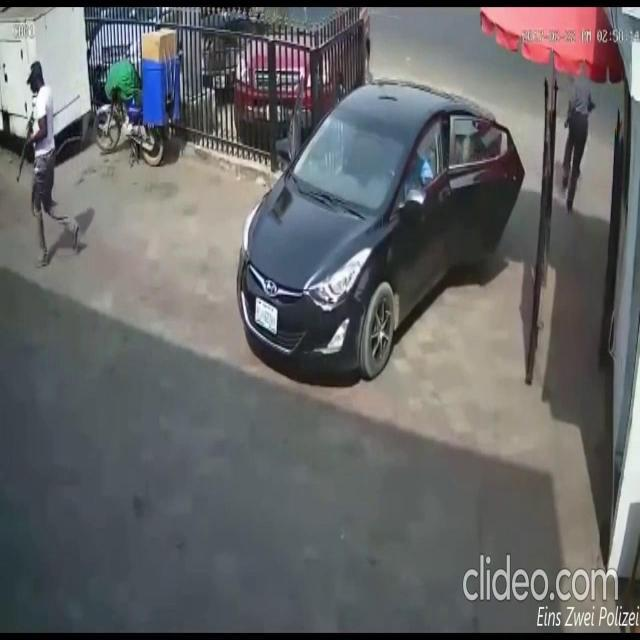pistol: (16, 108, 34, 184)
